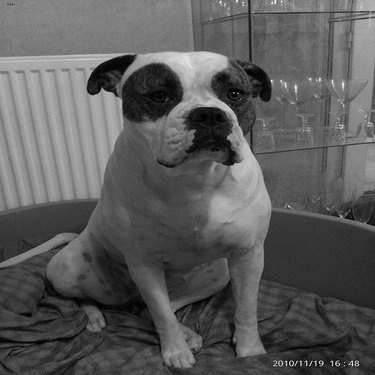dog: (1, 37, 277, 373)
